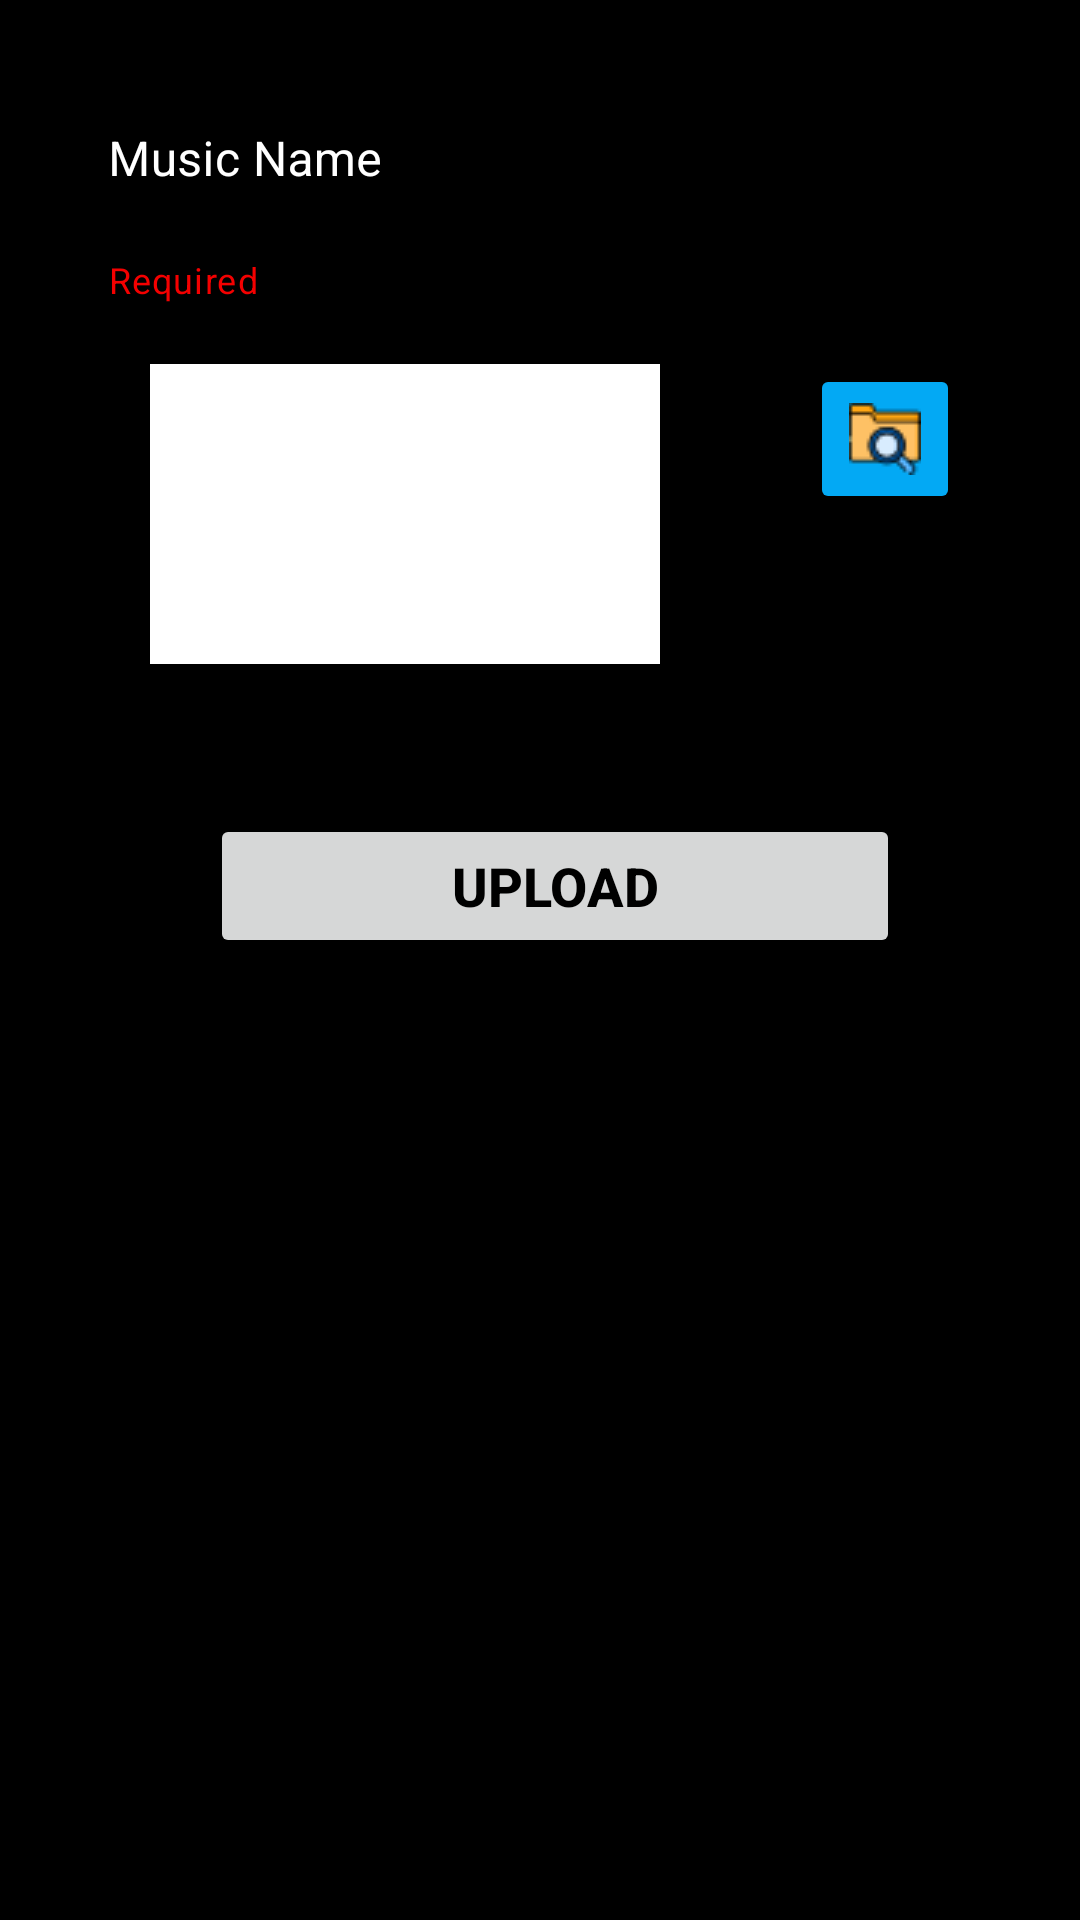

Screen size 1080px×1920px. Icon name, then its box in pixels as bbox=(x1, y1, x2, y2):
browse: bbox=(822, 382, 948, 496)
